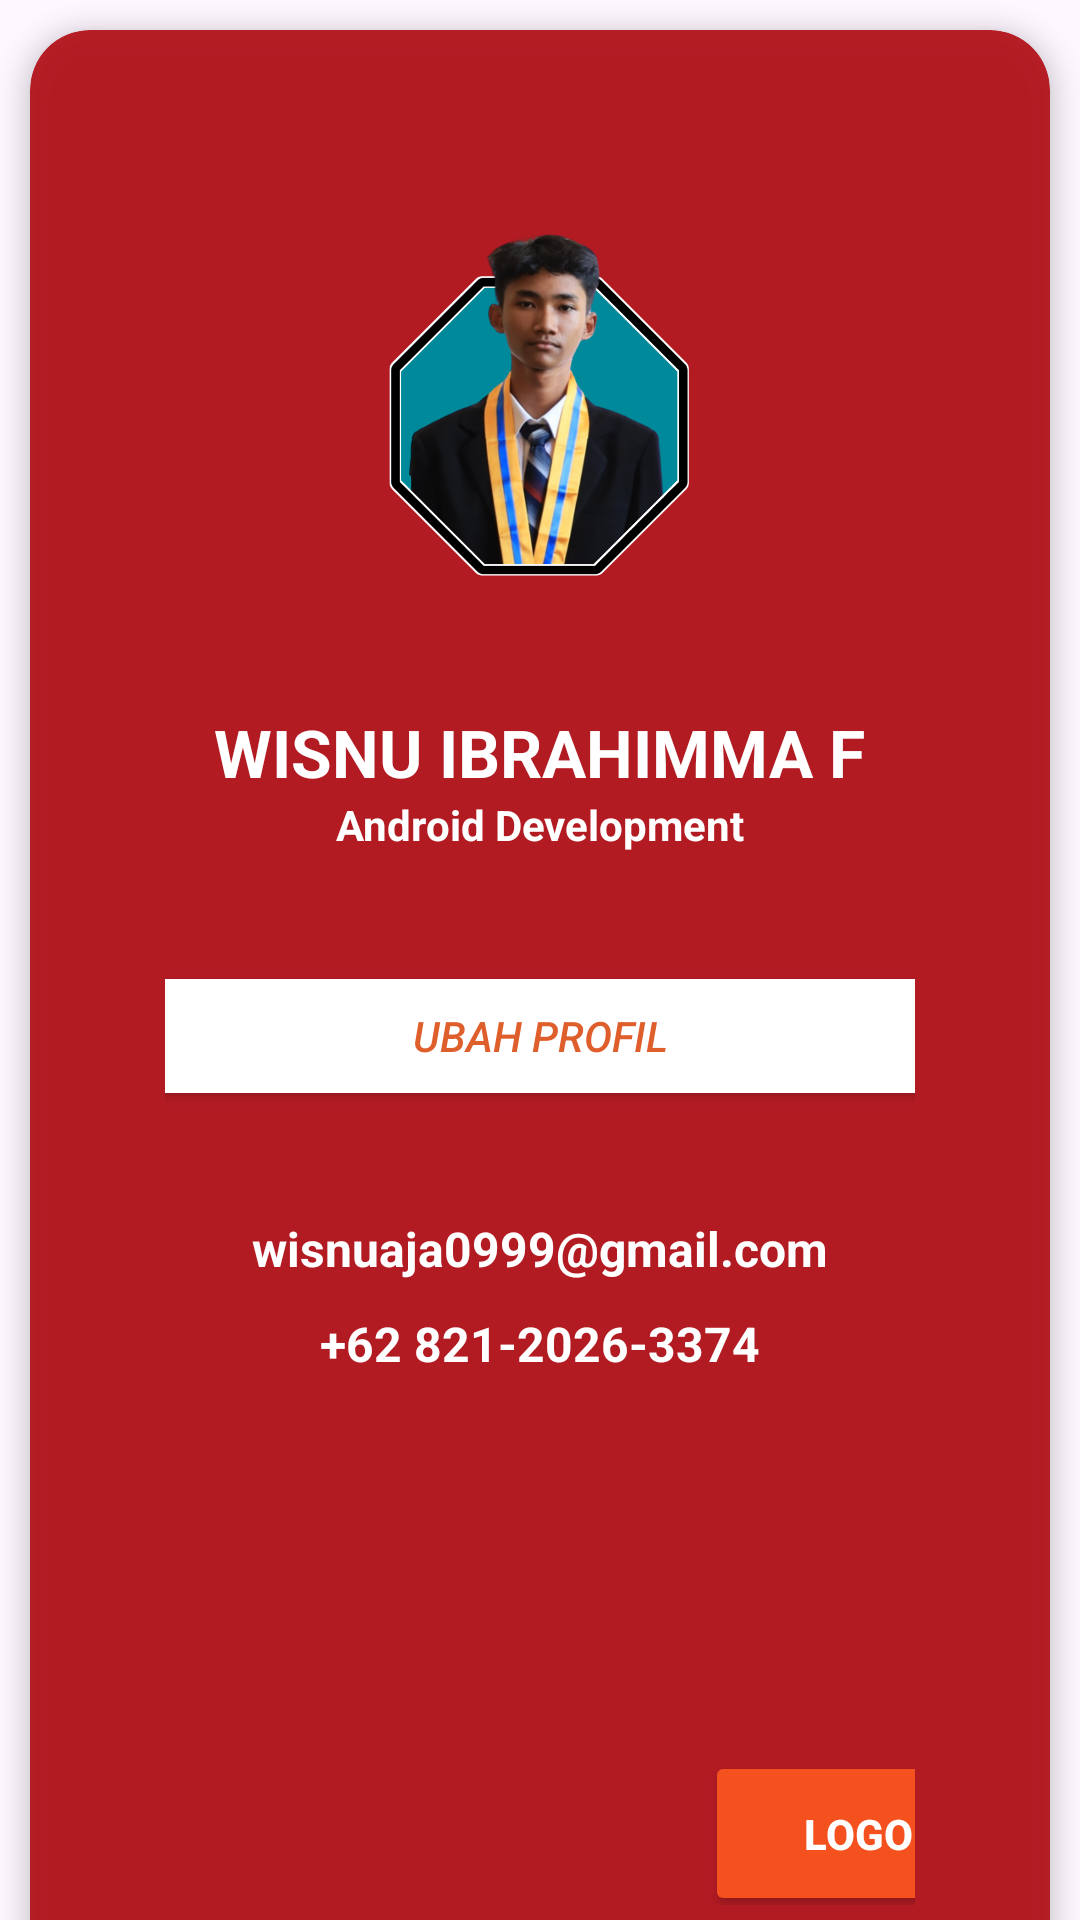

Screen size 1080*1920. Icon name, then its center in pixels as point (x, y):
profil: point (539, 405)
